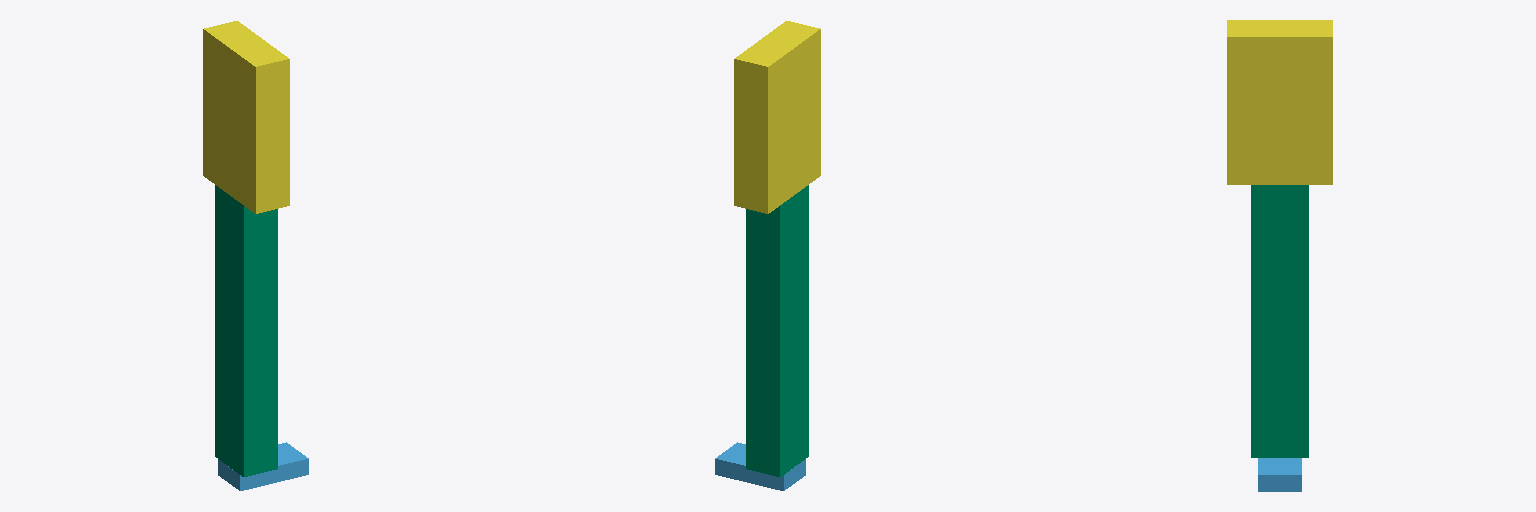
URDF robot description (threeLinkHuman_subject1):
<robot name="threeLinkHuman_subject1">
 <link name="root"/>

    <link name="foot">
        <inertial>
            <mass value="2.057"/>
            <origin xyz="0 0 0.026" rpy="0 0 0" />
            <inertia ixx="0.003" iyy="0.009" izz="0.012" ixy="0" ixz="0" iyz="0"/>
        </inertial>

        <visual>
			<origin xyz="0 0 0.026" rpy="0 0 0" />
            <geometry>
                <box size="0.229 0.128 0.052"/>
            </geometry>
        </visual>

        <collision>
			<origin xyz="0 0 0.026" rpy="0 0 0" />
            <geometry>
                <box size="0.229 0.128 0.052"/>
            </geometry>
        </collision>
    </link>
    
    <link name="leg">
        <inertial>
            <mass value="22.336"/>
            <origin xyz="0 0 0.4345" rpy="0 0 0" />
            <inertia ixx="1.458" iyy="1.431" izz="0.075" ixy="0" ixz="0" iyz="0"/>
        </inertial>

        <visual>
            <origin xyz="0 0 0.4345" rpy="0 0 0" />
            <geometry>
                <box size="0.114 0.165 0.869"/>
            </geometry>
        </visual>

        <collision>
            <origin xyz="0 0 0.4345" rpy="0 0 0" />
            <geometry>
                <box size="0.114 0.165 0.869"/>
            </geometry>
        </collision>
    </link>
    
    <link name="torso">
        <inertial>
            <mass value="22.144"/>
            <origin xyz="0 0 0.235" rpy="0 0 0" />
            <inertia ixx="0.577" iyy="0.432" izz="0.194" ixy="0" ixz="0" iyz="0"/>
        </inertial>

        <visual>
            <origin xyz="0 0 0.235" rpy="0 0 0" />
            <geometry>
                <box size="0.114 0.303 0.470"/>
            </geometry>
        </visual>

        <collision>
            <origin xyz="0 0 0.235" rpy="0 0 0" />
            <geometry>
                <box size="0.114 0.303 0.470"/>
            </geometry>
        </collision>
    </link>
        
		
    <joint name="rootLink" type="fixed">
        <parent link="root"/>
        <child link="foot"/>
    </joint>
		
    <joint name="ankle" type="revolute">
        <origin xyz="-0.057 0 0.052" rpy="0 0 0"/>
        <parent link="foot"/>
        <child link="leg"/>
        <dynamics damping="0.1" friction="0.0"/>
        <limit effort="30" velocity="1.0" lower="-10.0" upper="10.0" />
        <axis xyz="0 1 0" />
    </joint>
    
    <joint name="hip" type="revolute">
        <origin xyz="0 0 0.869" rpy="0 0 0"/>
        <parent link="leg"/>
        <child link="torso"/>
        <dynamics damping="0.1" friction="0.0"/>
        <limit effort="30" velocity="1.0" lower="-10.0" upper="10.0" />
        <axis xyz="0 1 0" />
    </joint>

</robot>
    

--- Facts derived from the render (not from the file) ---
The picture shows the robot from 3 angles, left to right: view 1: azimuth 30°, elevation 25°; view 2: azimuth 150°, elevation 25°; view 3: azimuth 270°, elevation 25°; orthographic projection.
Model threeLinkHuman_subject1 with 4 links and 3 joints (2 revolute, 1 fixed), rooted at root, posed all joints at 0.
Visible links, largest first — view 1: leg, torso, foot; view 2: leg, torso, foot; view 3: torso, leg, foot.
Link boxes in pixels (box(x1,y1,x2,y2)): leg: box(215, 185, 277, 476); torso: box(203, 21, 289, 213); foot: box(218, 442, 308, 490); leg: box(746, 185, 808, 476); torso: box(734, 21, 820, 213); foot: box(715, 442, 805, 490); torso: box(1227, 20, 1332, 184); leg: box(1251, 185, 1308, 457); foot: box(1258, 458, 1301, 491).
Size in the robot's own frame: 0.229 by 0.303 by 1.39 metres.
Geometry: primitives only (box / cylinder / sphere), no mesh files.
